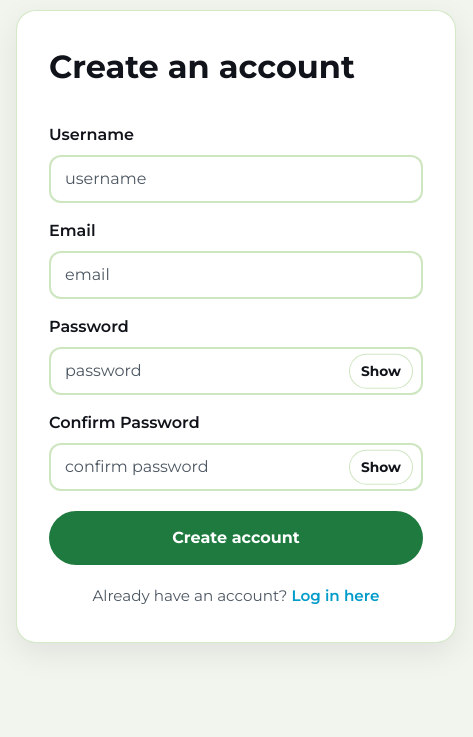
Signup page and form › shows backend signup errors
Type "victor" into the field labelled "Username" at {"x": 236, "y": 179}, box [49, 155, 423, 203]
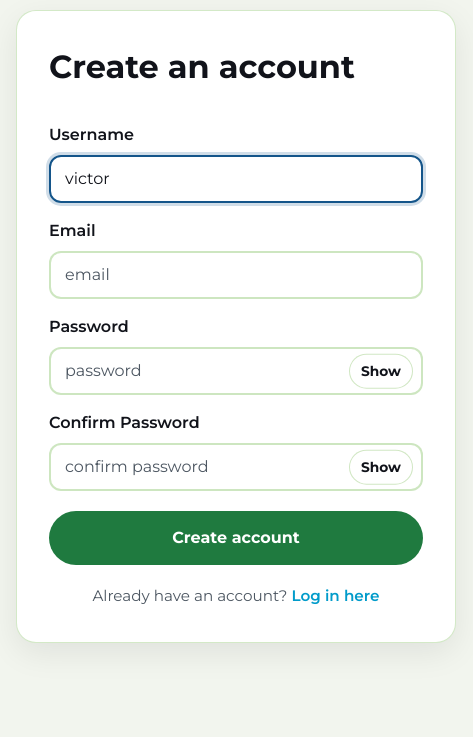
Type "victor@example.com" into the field labelled "Email" at {"x": 236, "y": 275}, box [49, 251, 423, 299]
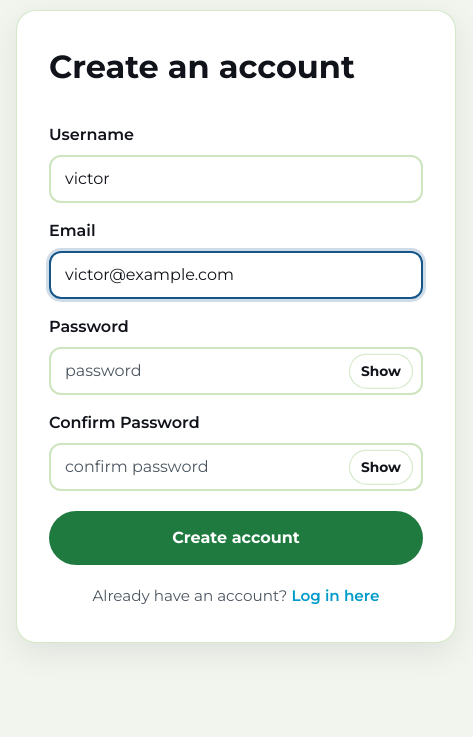
Type "password123" into the password field labelled "Password" at {"x": 236, "y": 371}, box [49, 347, 423, 395]
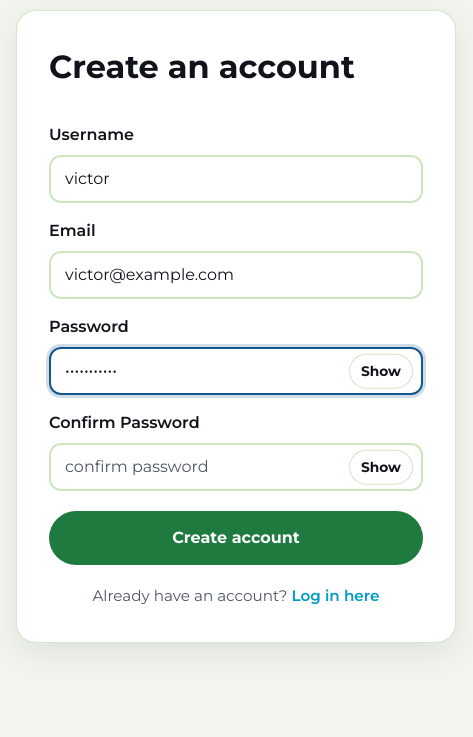
Type "password123" into the password field labelled "Confirm Password" at {"x": 236, "y": 467}, box [49, 443, 423, 491]
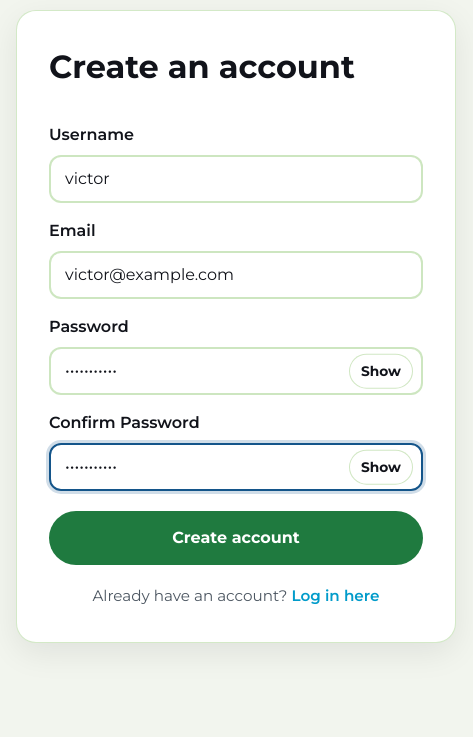
Click the button "Create account" at {"x": 236, "y": 538}, box [49, 511, 423, 565]
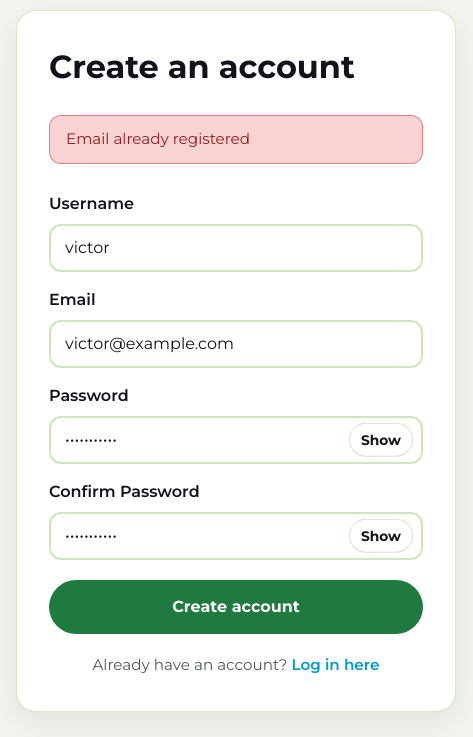
Now the text "Email already registered" is shown, box [49, 115, 423, 164]
